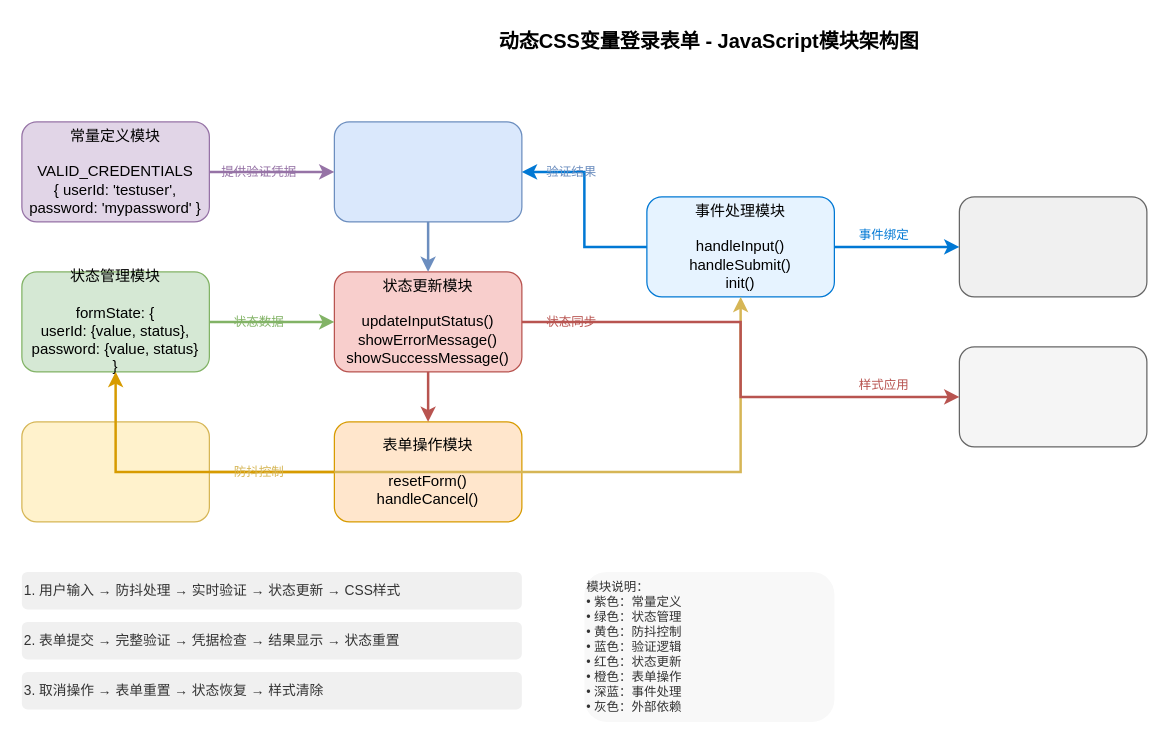
This 1169x743 diagram has some shape labels left out. The centre of each missing label's shape, as x and y in pixels:
"CSS样式 .input-warning .input-error .show .success" goes at pixel 1052 396.
"DOM元素 loginForm userIdInput passwordInput cancelBtn loginError statusMessage" goes at pixel 1052 246.
"输入验证模块 validateInput() validateCredentials()" goes at pixel 427 171.
"防抖定时器 debounceTimer (300ms延迟)" goes at pixel 115 471.
